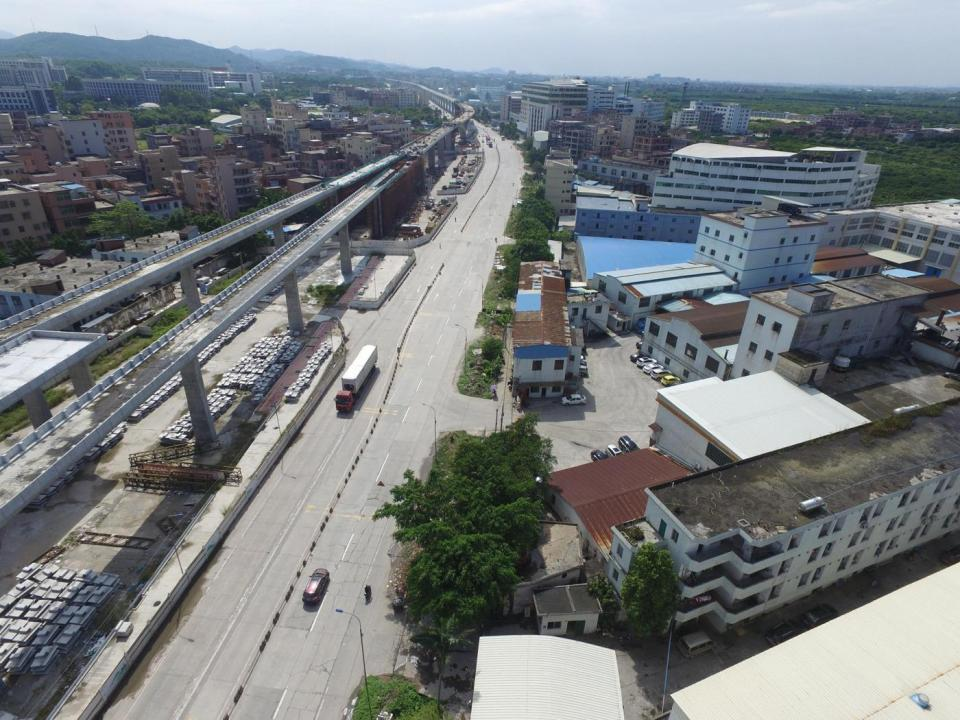bus: (500, 135, 504, 141)
car: (802, 602, 840, 627), (766, 619, 802, 645), (304, 568, 329, 605), (606, 444, 628, 465), (590, 450, 610, 470), (560, 394, 586, 405), (650, 369, 671, 380), (643, 364, 665, 374), (636, 358, 658, 368), (568, 365, 588, 376), (661, 377, 680, 386), (629, 353, 648, 362), (637, 340, 654, 350), (570, 360, 587, 368), (567, 354, 584, 361), (485, 141, 489, 145), (481, 132, 484, 134), (481, 140, 484, 142)
truck: (334, 345, 377, 413), (636, 315, 662, 335), (489, 140, 493, 148), (486, 135, 490, 142)
van: (677, 630, 716, 659), (618, 436, 640, 458)
